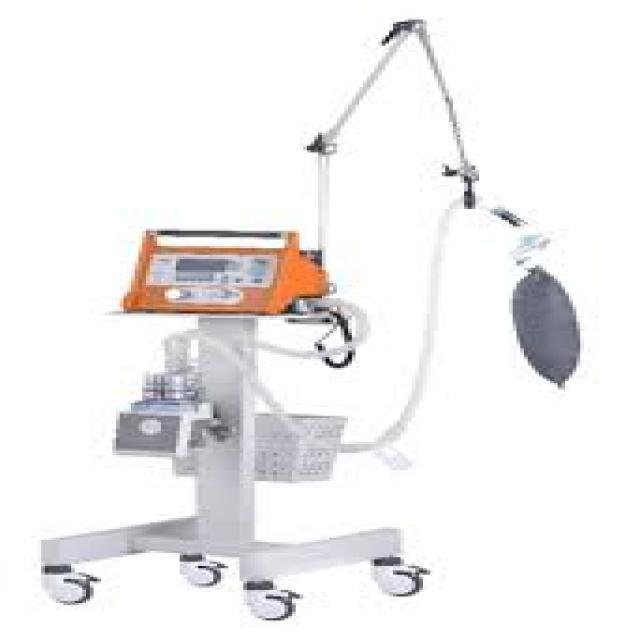ventilator: (38, 12, 564, 626)
